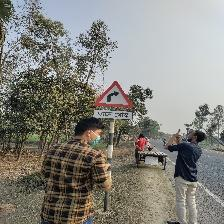Right-turn: (93, 81, 135, 120)
